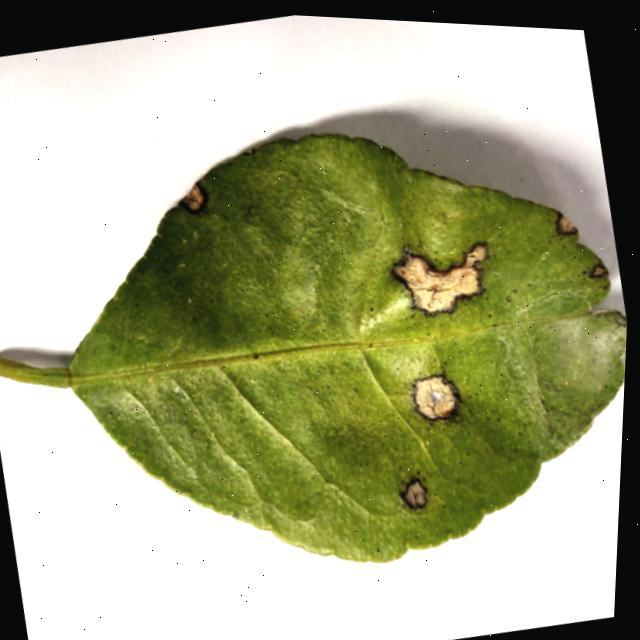antracnose: (0, 134, 627, 560), (392, 243, 485, 315), (413, 374, 457, 419), (400, 478, 425, 508), (181, 184, 203, 212), (556, 213, 576, 233), (588, 264, 607, 277)
